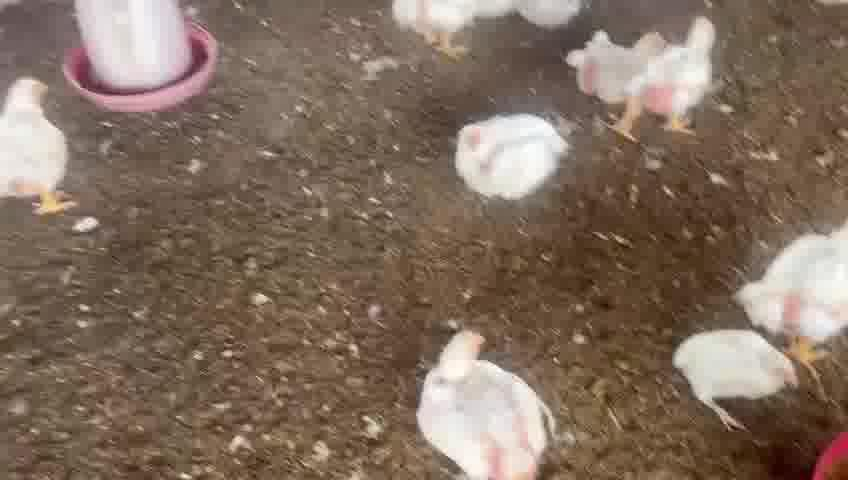AbNormal: (674, 302, 803, 440)
Normal: (410, 329, 559, 480), (744, 214, 848, 349), (0, 72, 91, 220), (451, 108, 578, 201), (634, 20, 725, 134), (574, 13, 669, 103)
